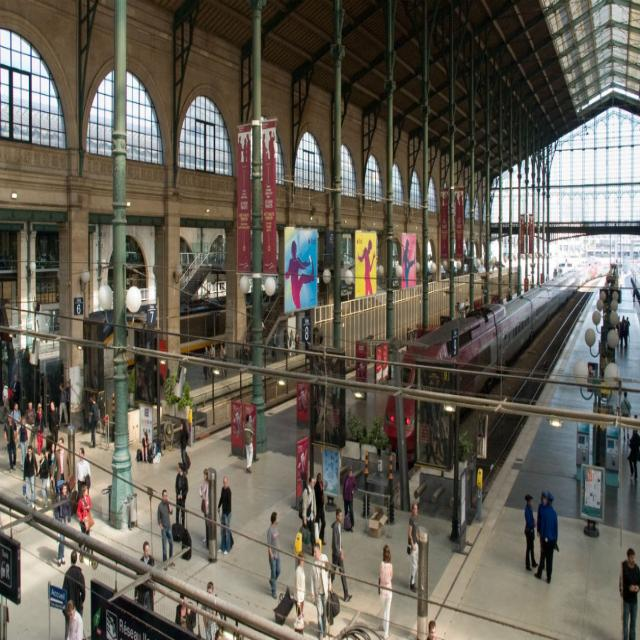body: (310, 352, 343, 444), (420, 373, 450, 469), (534, 489, 560, 585), (329, 507, 354, 604), (284, 239, 317, 312), (60, 548, 86, 640), (310, 541, 332, 640), (618, 545, 640, 639), (236, 126, 276, 176), (536, 490, 558, 575), (297, 474, 318, 557), (52, 481, 72, 566), (156, 488, 176, 572), (133, 540, 155, 612), (377, 542, 393, 639), (266, 511, 283, 600), (215, 474, 232, 557), (406, 502, 421, 594), (200, 580, 222, 640), (293, 550, 307, 636), (174, 461, 189, 541), (356, 238, 376, 297), (76, 484, 93, 552), (22, 444, 39, 510), (524, 493, 538, 572), (312, 472, 326, 546), (356, 345, 389, 376), (342, 464, 357, 532), (50, 437, 72, 482), (2, 412, 18, 473), (75, 447, 92, 502), (231, 408, 256, 444), (36, 446, 50, 509), (199, 468, 210, 544), (175, 594, 197, 630), (402, 237, 417, 288), (34, 402, 48, 456), (66, 598, 84, 640), (626, 429, 640, 481), (178, 418, 190, 477), (55, 382, 70, 429), (243, 413, 254, 474), (620, 390, 632, 442), (18, 417, 29, 472), (88, 394, 99, 448), (10, 402, 22, 451), (324, 452, 338, 494), (47, 441, 58, 494), (48, 399, 61, 443), (36, 544, 58, 570), (11, 374, 23, 418), (439, 190, 463, 212), (141, 430, 156, 465), (419, 619, 445, 639), (298, 449, 308, 500), (2, 379, 12, 426), (298, 382, 309, 422), (618, 314, 628, 350), (24, 401, 37, 427), (519, 214, 533, 238), (90, 395, 96, 449), (202, 344, 211, 380), (271, 330, 280, 362), (282, 325, 290, 357), (220, 344, 227, 379), (243, 337, 251, 366), (288, 328, 295, 358), (407, 330, 418, 348), (625, 316, 631, 344), (294, 330, 300, 356), (208, 342, 215, 359), (631, 286, 637, 302)
